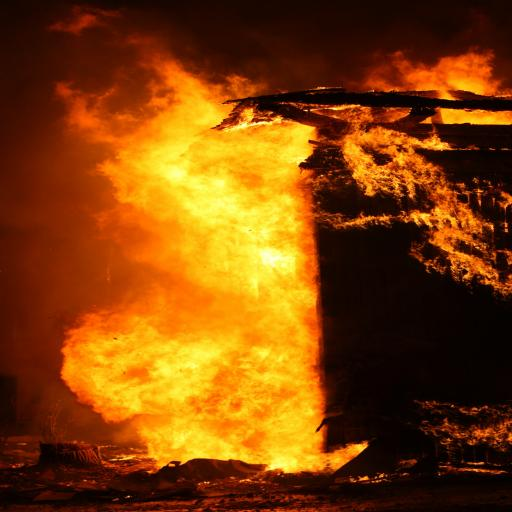buildingfire: (12, 13, 512, 511)
fire: (60, 40, 324, 470)
